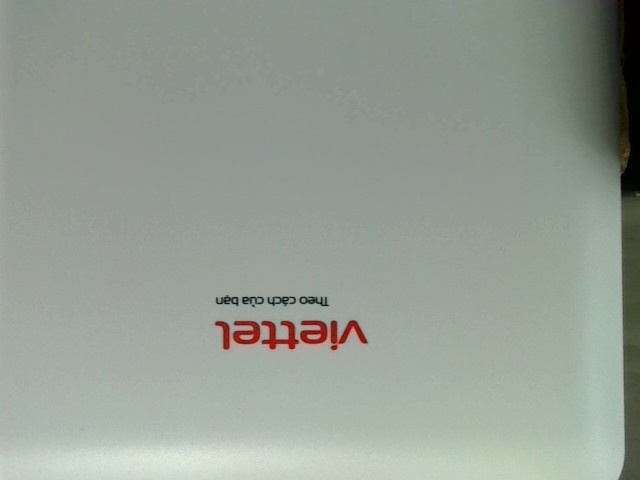AY_Viettel: (210, 288, 371, 351)
